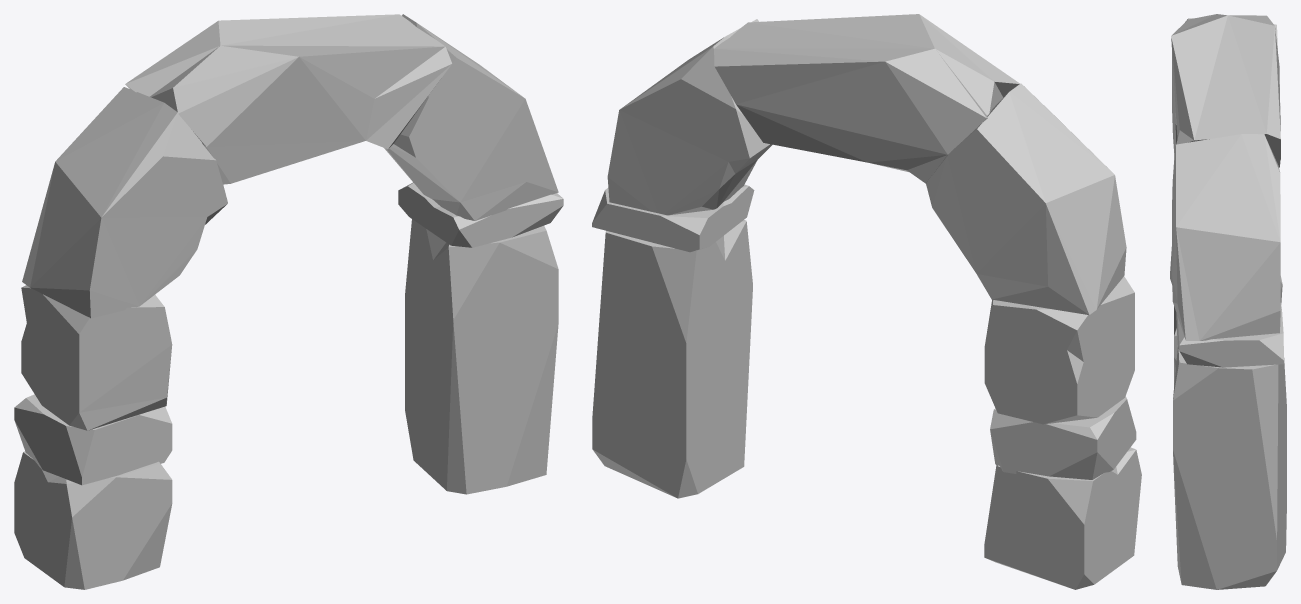
The model's file is Door_Frame.fbx.
3 views of the same model, side by side, from view 1: azimuth 30°, elevation 25°; view 2: azimuth 150°, elevation 25°; view 3: azimuth 270°, elevation 25° (orthographic). The views are drawn at different scales.
Parts seen in each view (by area): view 1: Door_Frame; view 2: Door_Frame; view 3: Door_Frame.
Boxes of the visible parts, <box> form: Door_Frame: <box>14,14,563,589</box>; Door_Frame: <box>592,14,1141,589</box>; Door_Frame: <box>1170,14,1286,589</box>.
Size of the model in its own units: 1000 by 922 by 223.
